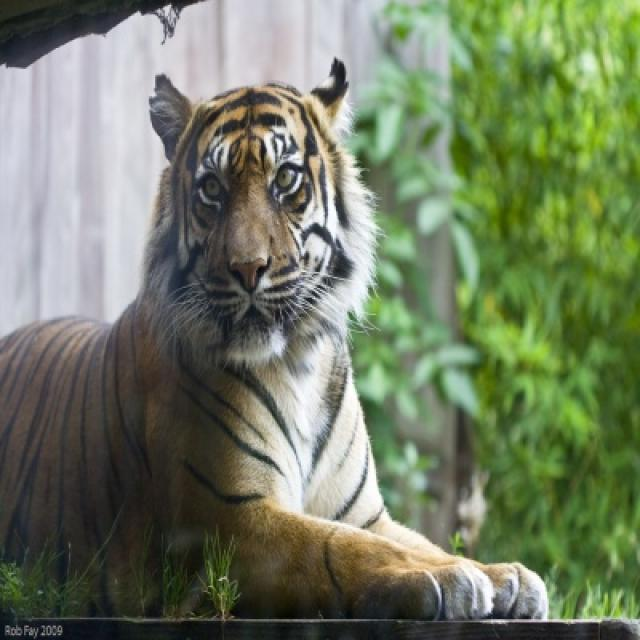Tiger: (0, 51, 553, 621)
